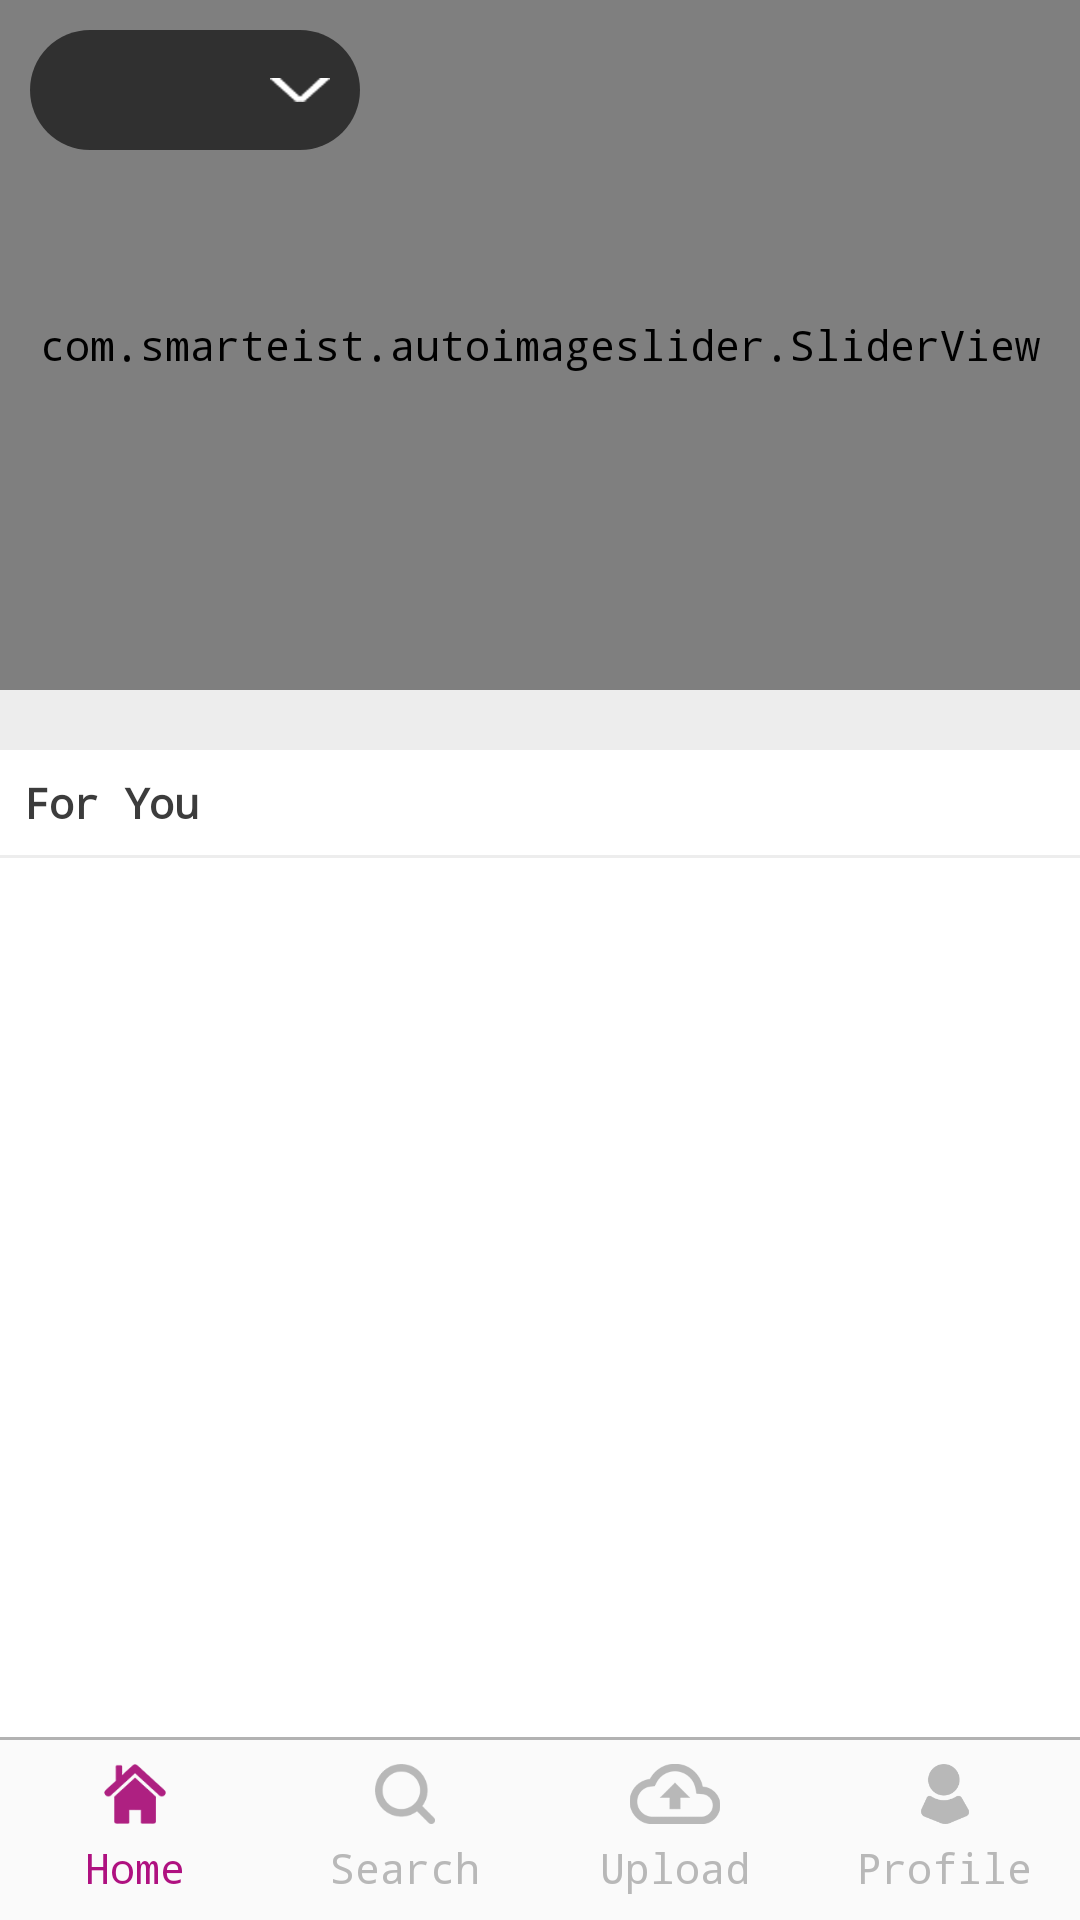

Named icons in this screenshot (1080 x 1920) and their centers, point (x, y):
user: point (945, 1794)
